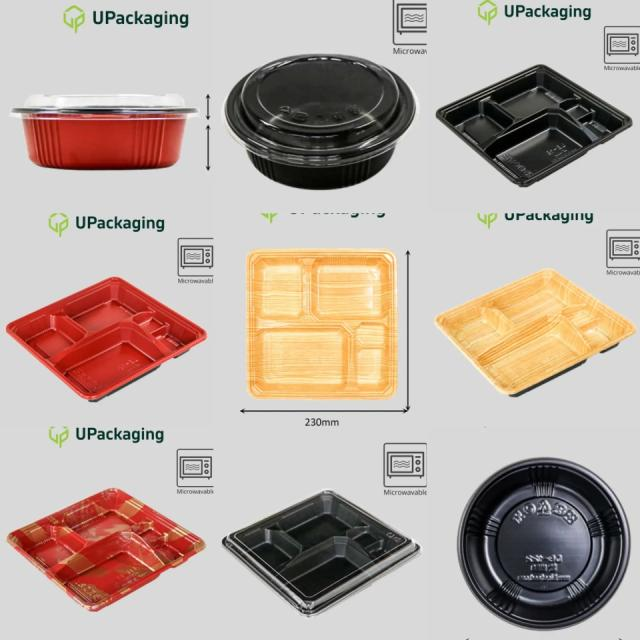Single-Use-Plastic: (458, 458, 630, 630), (225, 54, 415, 189), (435, 269, 636, 396), (6, 278, 206, 400), (222, 491, 420, 614), (8, 489, 205, 611), (436, 65, 632, 186), (246, 249, 398, 399), (10, 94, 199, 169)
